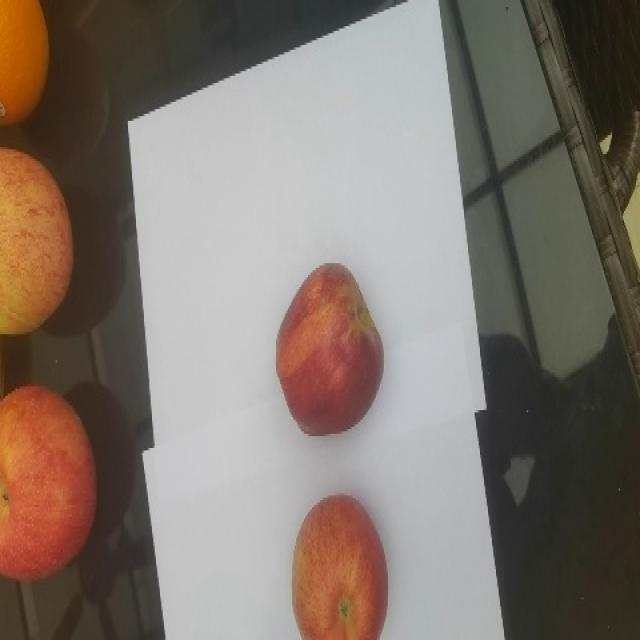Apple: (0, 384, 98, 583), (274, 261, 384, 436), (291, 493, 388, 639), (0, 146, 74, 336)
Orange: (0, 0, 50, 126)
